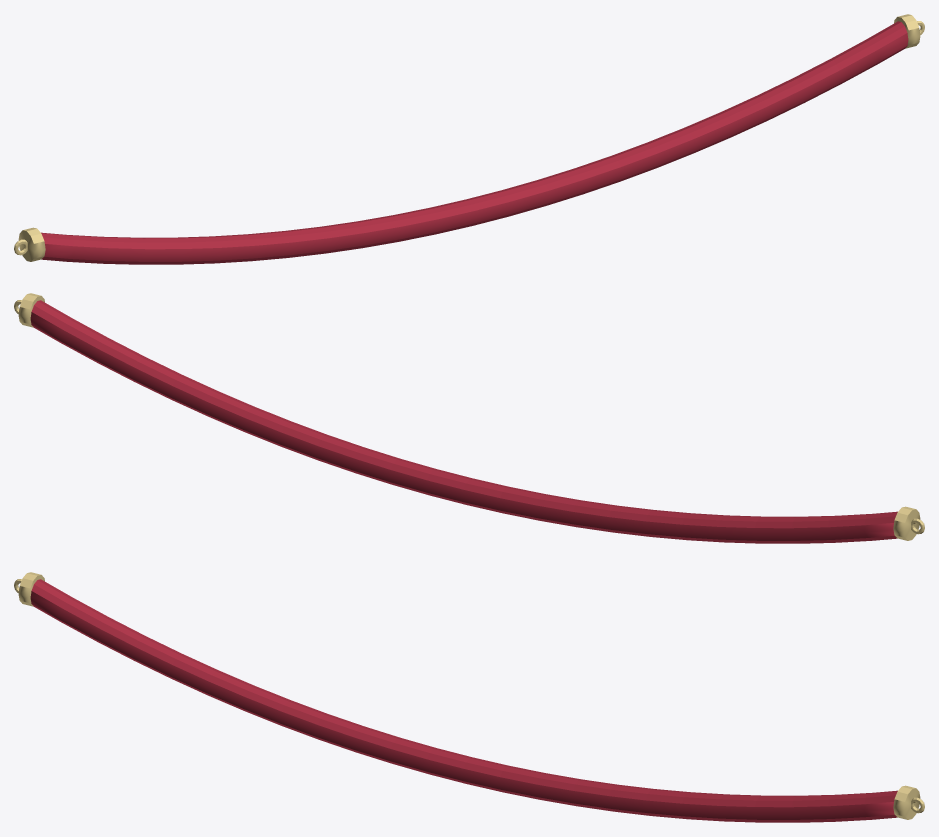
The model's file is bb_set_velvetrope.fbx.
3 views of the same model, one above another, from view 1: azimuth 30°, elevation 25°; view 2: azimuth 150°, elevation 25°; view 3: azimuth 330°, elevation 25° (orthographic).
Parts seen in each view (by area): view 1: bb_set_velvetrope; view 2: bb_set_velvetrope; view 3: bb_set_velvetrope.
Boxes of the visible parts, x1=… form: bb_set_velvetrope: x1=14, y1=14, x2=924, y2=264; bb_set_velvetrope: x1=14, y1=293, x2=924, y2=543; bb_set_velvetrope: x1=14, y1=572, x2=924, y2=822.
Size of the model in its own units: 1.53 by 0.164 by 0.048.
